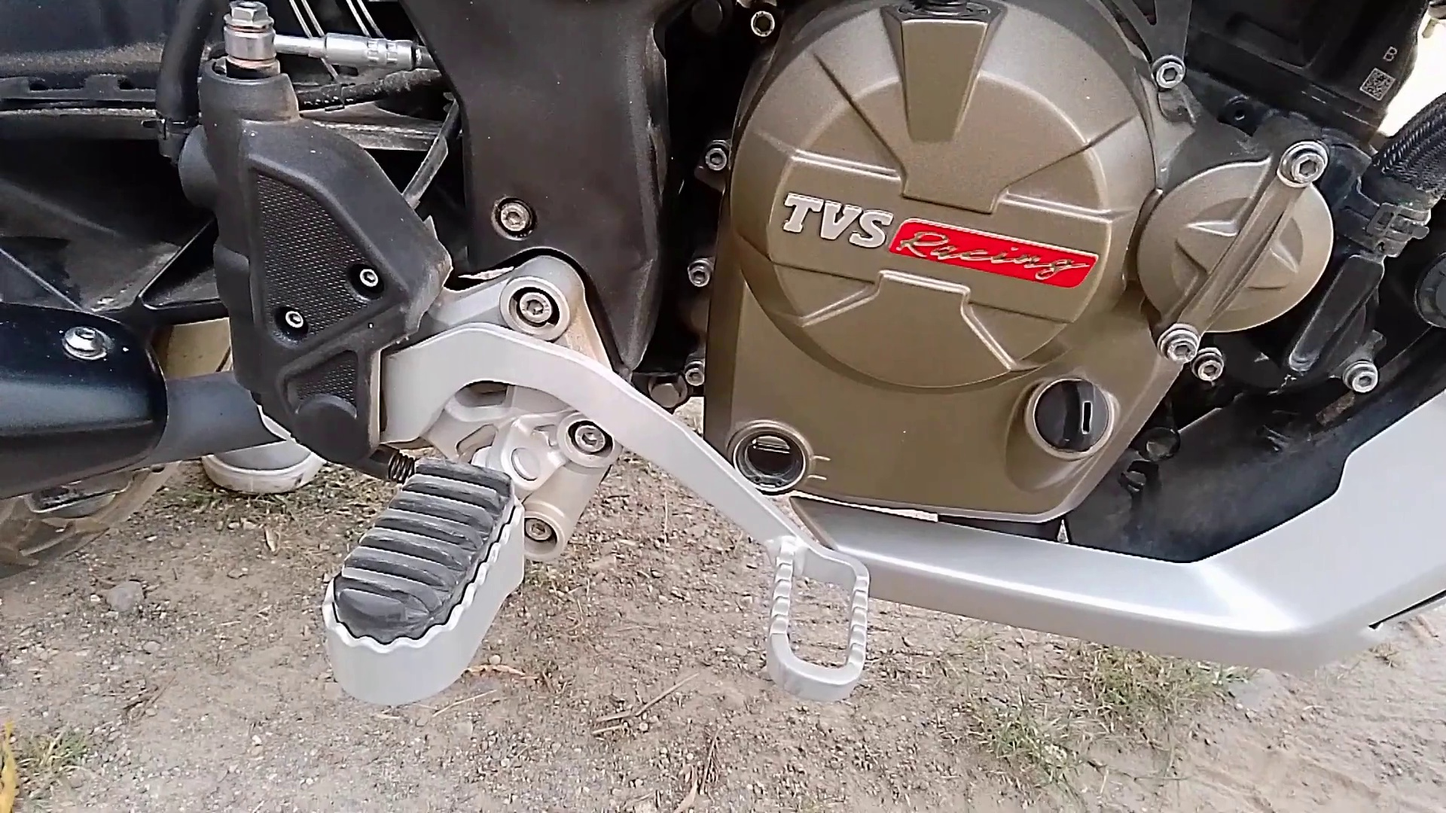engine: (629, 4, 1361, 551)
oil_cap: (1017, 356, 1126, 469)
oil_marker: (717, 399, 859, 512)
